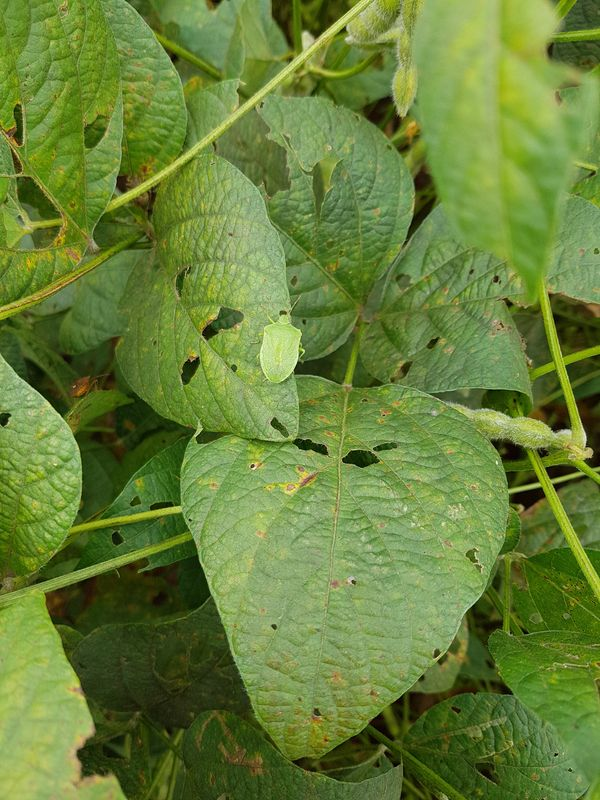Euschistus_heros_adulto: (61, 368, 105, 406)
Nezara_viridula_adulto: (246, 296, 318, 395)
